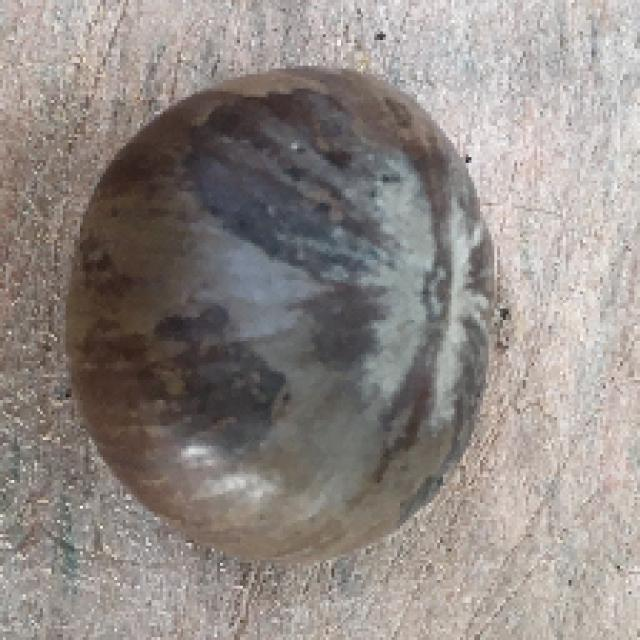DamagedHazelnut: (63, 69, 497, 567)
